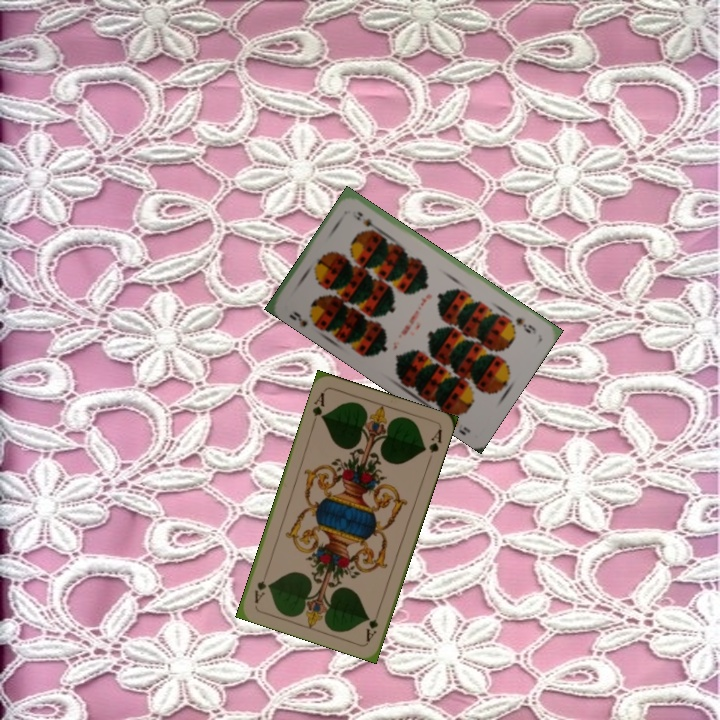GA: (308, 388, 327, 427), (362, 614, 381, 644)
S9: (285, 307, 321, 330), (511, 313, 539, 337)
